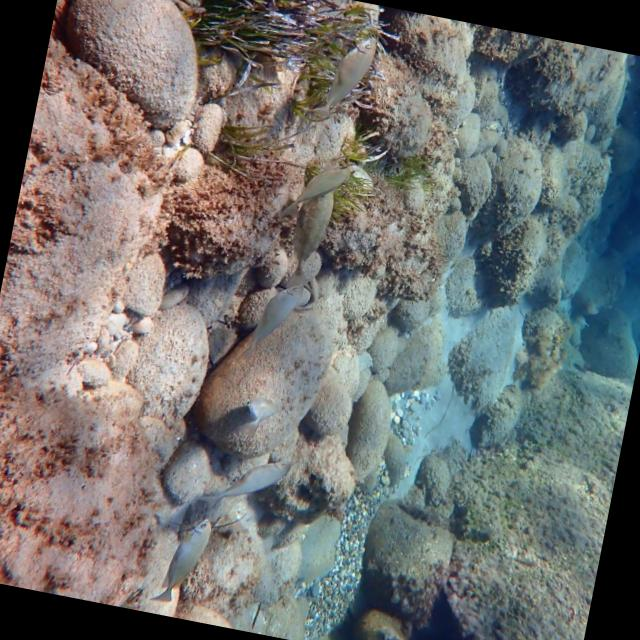Sokar Baligi: (186, 426, 310, 538), (298, 14, 388, 138)
